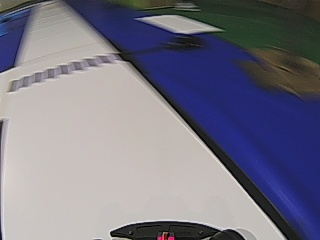CrossWalk: (16, 52, 117, 86)
